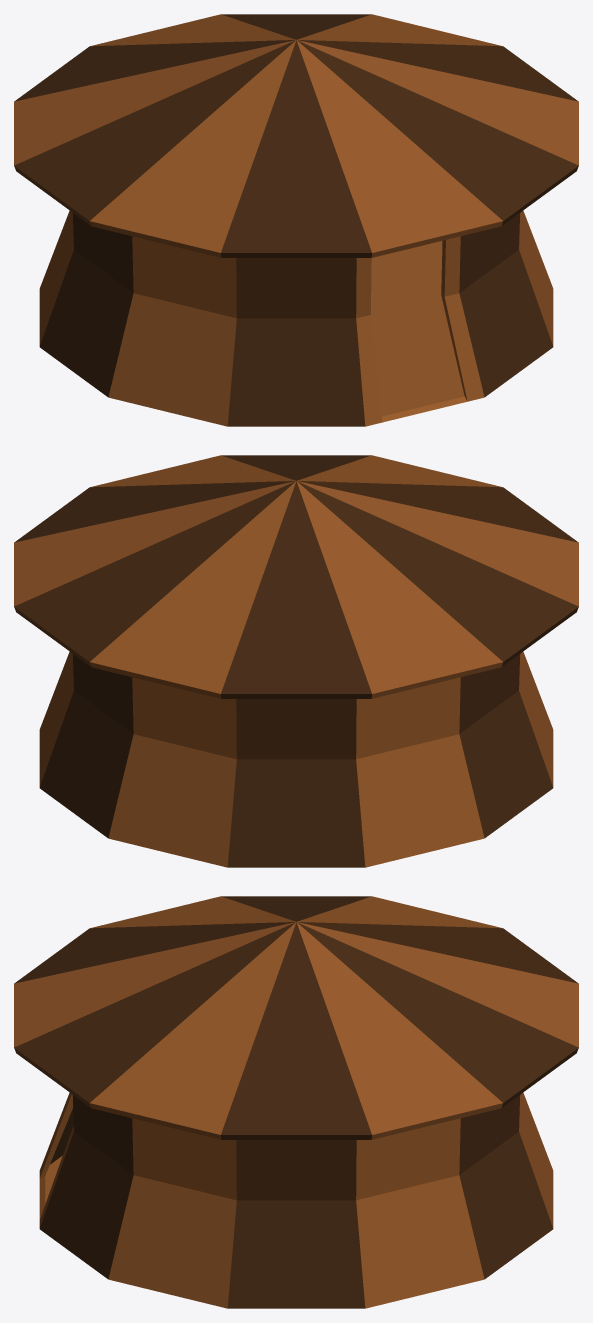
Rendered from Tent_5_Orange.fbx.
3 views of the same model, one above another, from view 1: azimuth 30°, elevation 25°; view 2: azimuth 150°, elevation 25°; view 3: azimuth 270°, elevation 25° (orthographic).
Visible parts, largest first — view 1: Tent_5_Orange_Part_14, Tent_5_Orange_Part_3, Tent_5_Orange_Part_4, Tent_5_Orange_Part_13, Tent_5_Orange_Part_1, Tent_5_Orange_Part_5, Tent_5_Orange_Part_6, Tent_5_Orange_Part_12; view 2: Tent_5_Orange_Part_14, Tent_5_Orange_Part_7, Tent_5_Orange_Part_6, Tent_5_Orange_Part_8, Tent_5_Orange_Part_5, Tent_5_Orange_Part_9, Tent_5_Orange_Part_4, Tent_5_Orange_Part_10; view 3: Tent_5_Orange_Part_14, Tent_5_Orange_Part_11, Tent_5_Orange_Part_10, Tent_5_Orange_Part_12, Tent_5_Orange_Part_13, Tent_5_Orange_Part_9, Tent_5_Orange_Part_8, Tent_5_Orange_Part_3, Tent_5_Orange_Part_1.
Part boxes in pixels (box(x1,y1,x2,y2)): Tent_5_Orange_Part_14: box(14, 14, 578, 257); Tent_5_Orange_Part_3: box(227, 258, 382, 426); Tent_5_Orange_Part_4: box(108, 236, 236, 426); Tent_5_Orange_Part_13: box(441, 213, 553, 401); Tent_5_Orange_Part_1: box(371, 240, 467, 422); Tent_5_Orange_Part_5: box(39, 213, 133, 396); Tent_5_Orange_Part_6: box(39, 210, 73, 345); Tent_5_Orange_Part_12: box(519, 210, 553, 345); Tent_5_Orange_Part_14: box(14, 455, 578, 698); Tent_5_Orange_Part_7: box(227, 699, 365, 867); Tent_5_Orange_Part_6: box(356, 677, 484, 867); Tent_5_Orange_Part_8: box(108, 677, 236, 867); Tent_5_Orange_Part_5: box(459, 654, 553, 837); Tent_5_Orange_Part_9: box(39, 654, 133, 837); Tent_5_Orange_Part_4: box(519, 651, 553, 786); Tent_5_Orange_Part_10: box(39, 651, 73, 786); Tent_5_Orange_Part_14: box(14, 896, 578, 1139); Tent_5_Orange_Part_11: box(227, 1140, 365, 1308); Tent_5_Orange_Part_10: box(356, 1118, 484, 1308); Tent_5_Orange_Part_12: box(108, 1118, 236, 1308); Tent_5_Orange_Part_13: box(39, 1095, 133, 1278); Tent_5_Orange_Part_9: box(459, 1095, 553, 1278); Tent_5_Orange_Part_8: box(519, 1092, 553, 1227); Tent_5_Orange_Part_3: box(39, 1092, 73, 1178); Tent_5_Orange_Part_1: box(39, 1155, 62, 1219).
Size of the model in its own units: 819 by 445 by 819.
